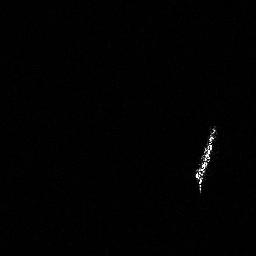ship: (191, 122, 220, 196)
